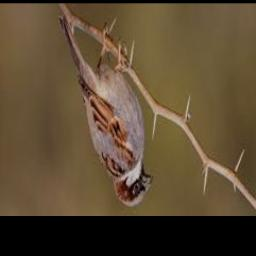Sparrow: (58, 13, 153, 208)
